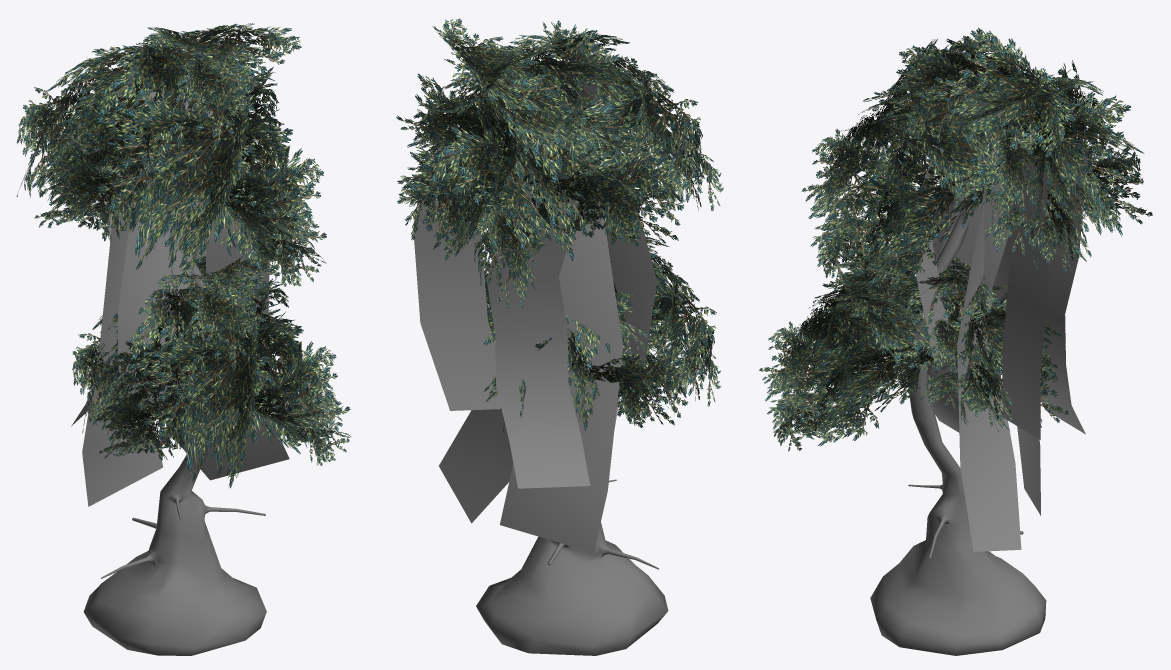
Rendered from svamptree_lod0.fbx.
The picture shows the model from 3 angles, left to right: view 1: azimuth 30°, elevation 25°; view 2: azimuth 150°, elevation 25°; view 3: azimuth 270°, elevation 25°; orthographic projection. The views are drawn at different scales.
Visible parts, largest first — view 1: Default_Layer; view 2: Default_Layer; view 3: Default_Layer.
Part boxes in pixels (x1,y1,x2,y2): Default_Layer: [16, 23, 350, 655]; Default_Layer: [396, 18, 723, 655]; Default_Layer: [759, 27, 1152, 655].
Bounding box in the file's own units: 639 × 1255 × 781.
